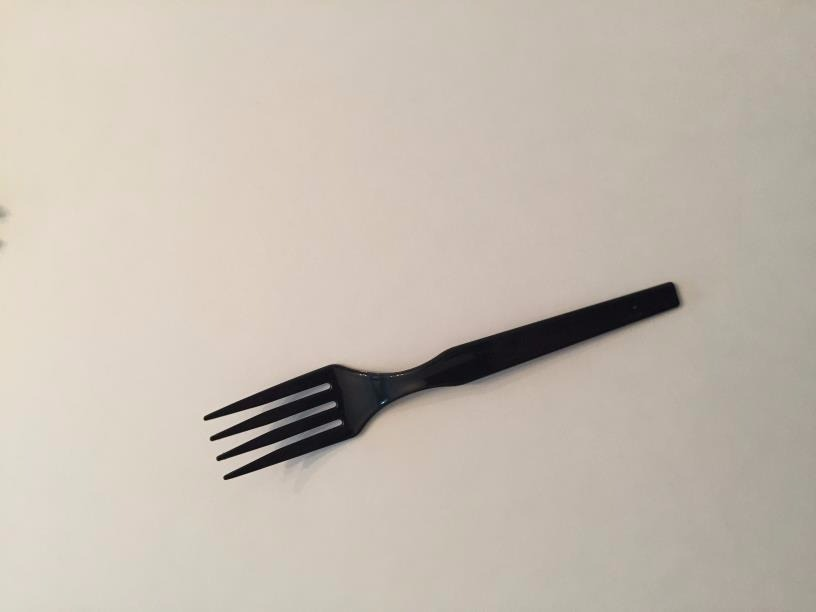fork: (182, 264, 742, 504)
